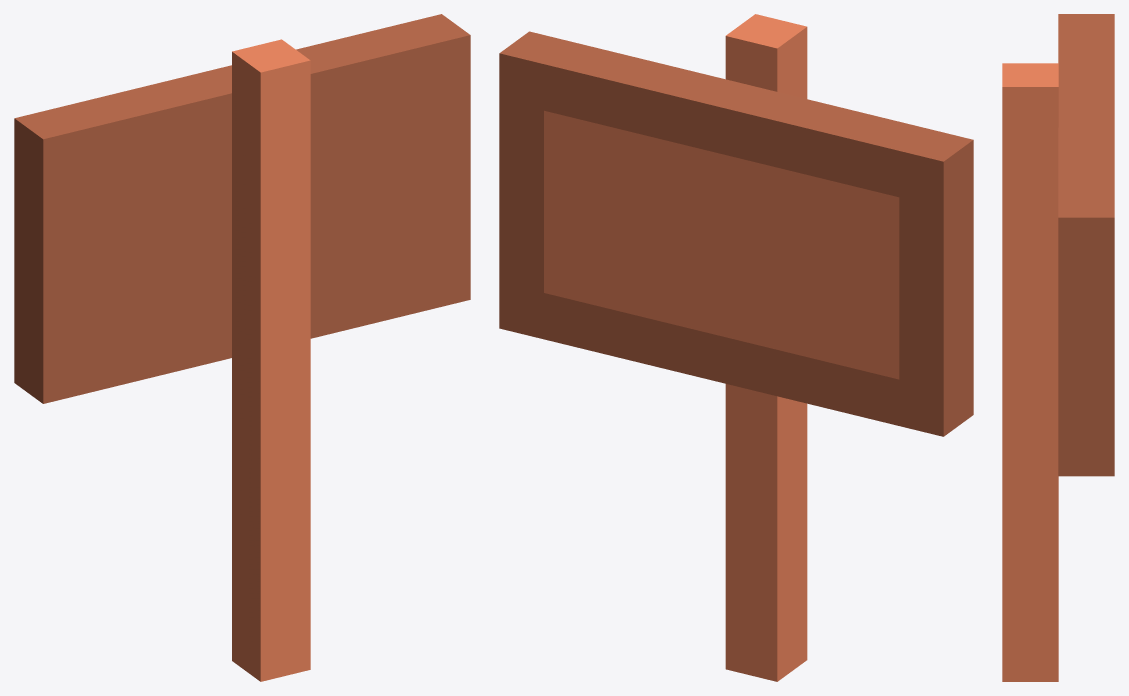
Rendered from Sign.glb.
3 renders of one model, left to right at view 1: azimuth 30°, elevation 25°; view 2: azimuth 150°, elevation 25°; view 3: azimuth 270°, elevation 25°, orthographic. The views are drawn at different scales.
Parts seen in each view (by area): view 1: sign; view 2: sign; view 3: sign.
Boxes of the visible parts, x1,y1,x2,y2 form: sign: [14, 14, 470, 681]; sign: [499, 14, 973, 681]; sign: [1002, 14, 1114, 681].
Size of the model in its own units: 0.3 by 0.4088 by 0.07.
